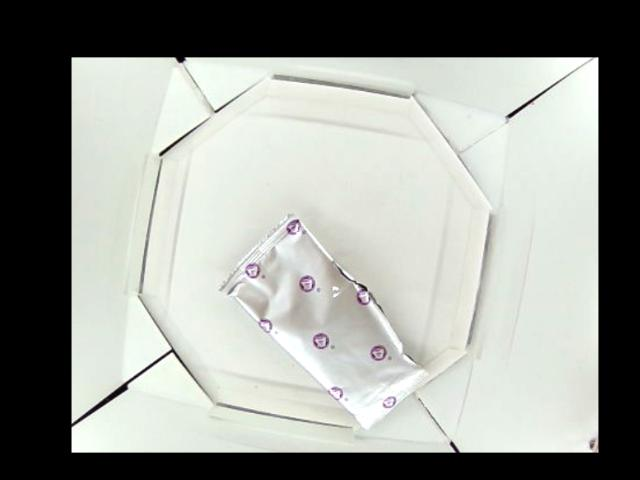Medicine: (219, 212, 429, 445)
